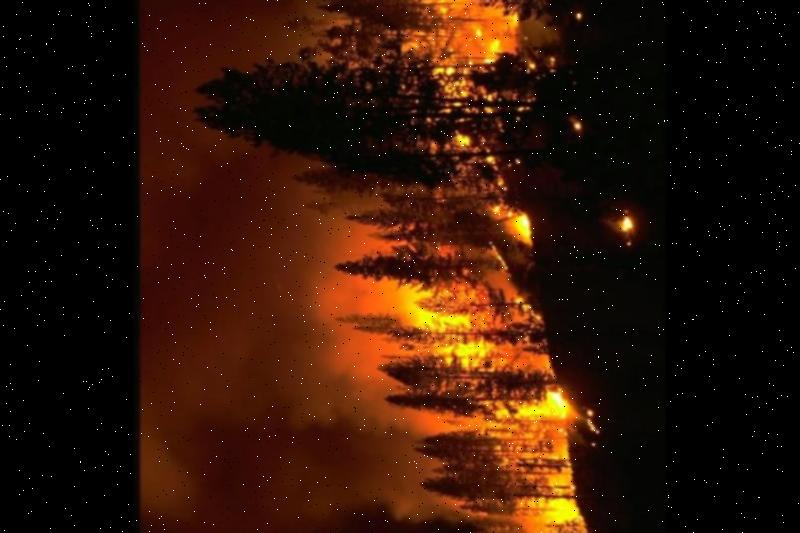fire: (325, 200, 655, 533), (365, 0, 614, 72)
